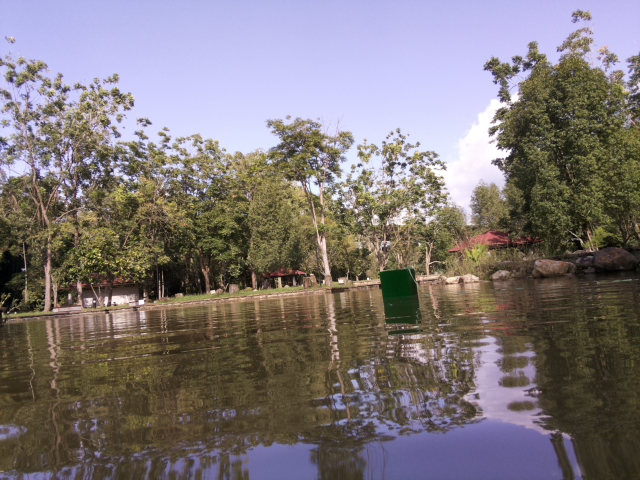obstacle: (378, 268, 419, 298)
